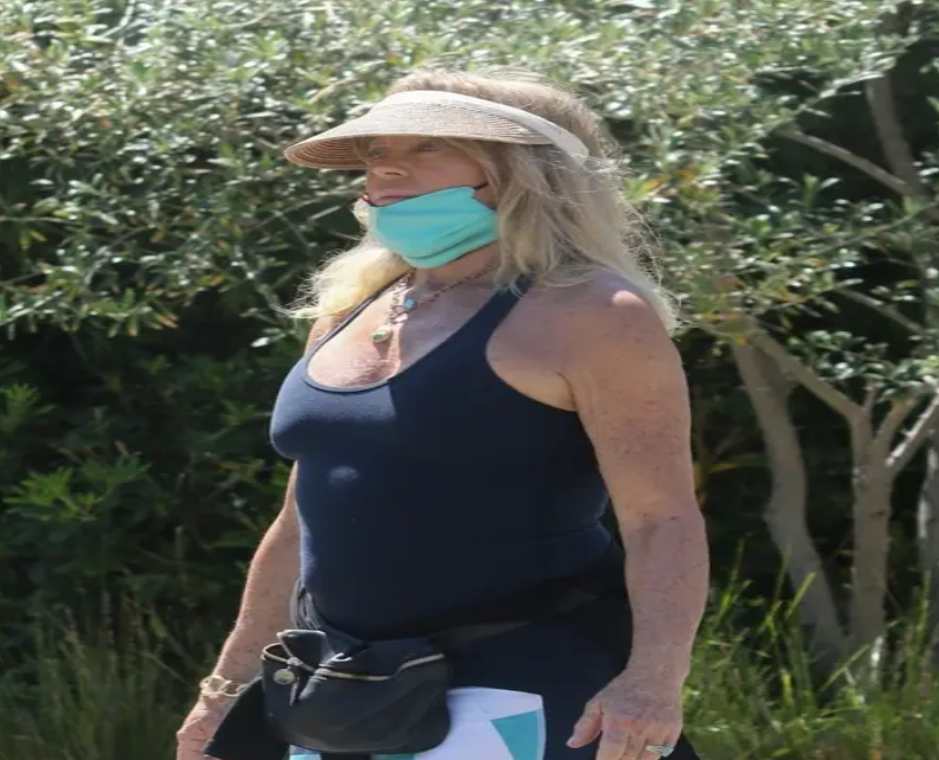mask_weared_incorrect: (300, 72, 606, 275)
